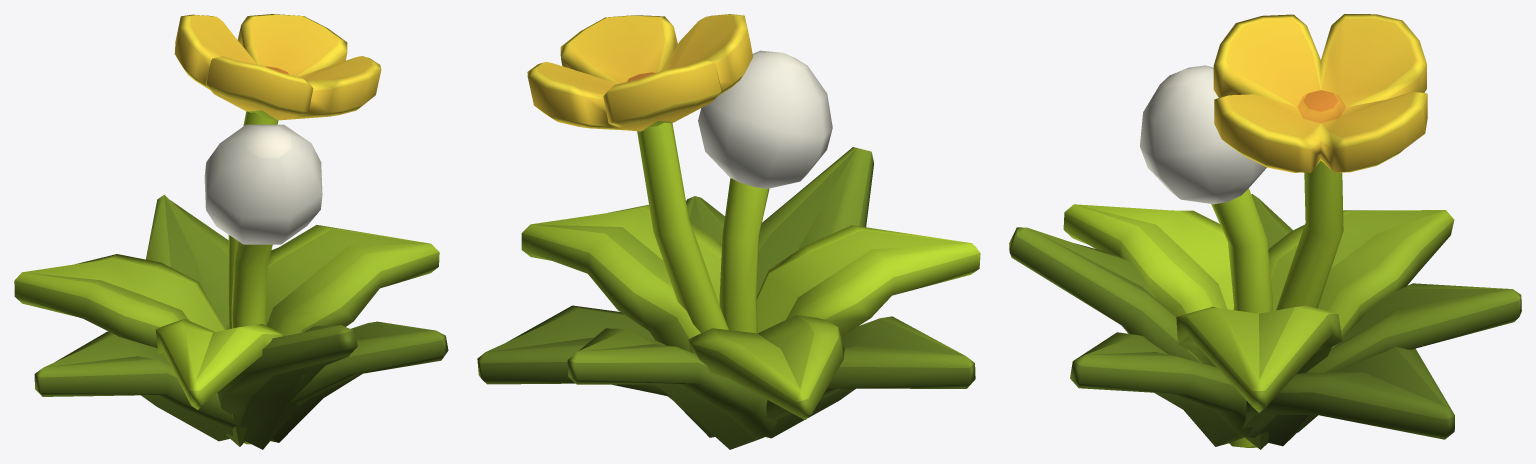
Rendered from dandelion_flower_and_ball_LOD_group.fbx.
3 views of the same model, side by side, from view 1: azimuth 30°, elevation 25°; view 2: azimuth 150°, elevation 25°; view 3: azimuth 270°, elevation 25° (orthographic). The views are drawn at different scales.
Visible parts, largest first — view 1: dandelion_flower_and_ball_LOD0; view 2: dandelion_flower_and_ball_LOD0; view 3: dandelion_flower_and_ball_LOD0.
Part boxes in pixels (x1,y1,x2,y2): dandelion_flower_and_ball_LOD0: (14, 14, 448, 449); dandelion_flower_and_ball_LOD0: (477, 14, 980, 449); dandelion_flower_and_ball_LOD0: (1009, 14, 1521, 449).
Size of what is drawn, in the model's own units: 107 by 95.11 by 104.
Materials: 1 (1 with a texture image).
